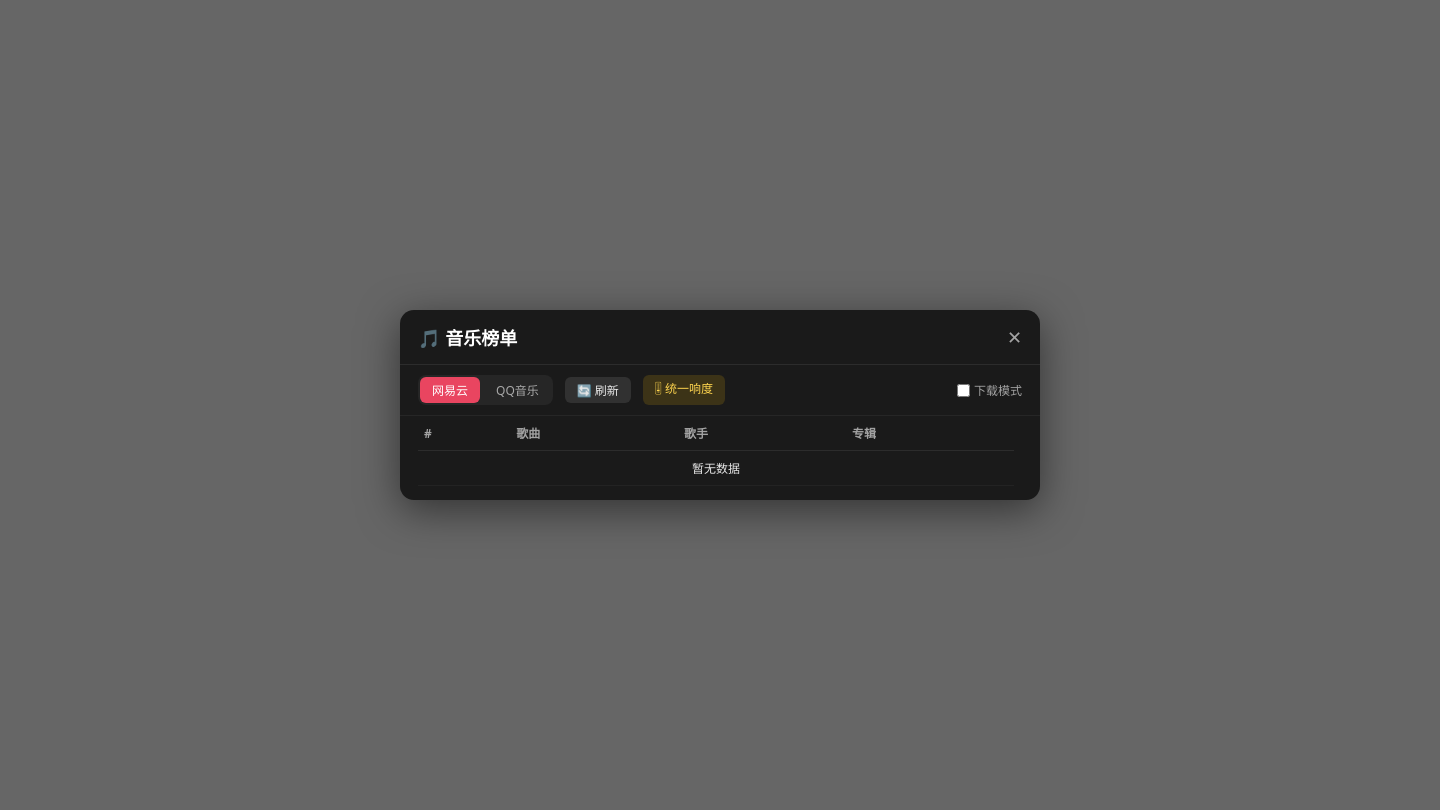
Test: Charts.vue › 点击手动下载按钮打开下载弹窗
Click the checkbox labelled "下载模式". click: [964, 390]
box: [957,384,970,396]
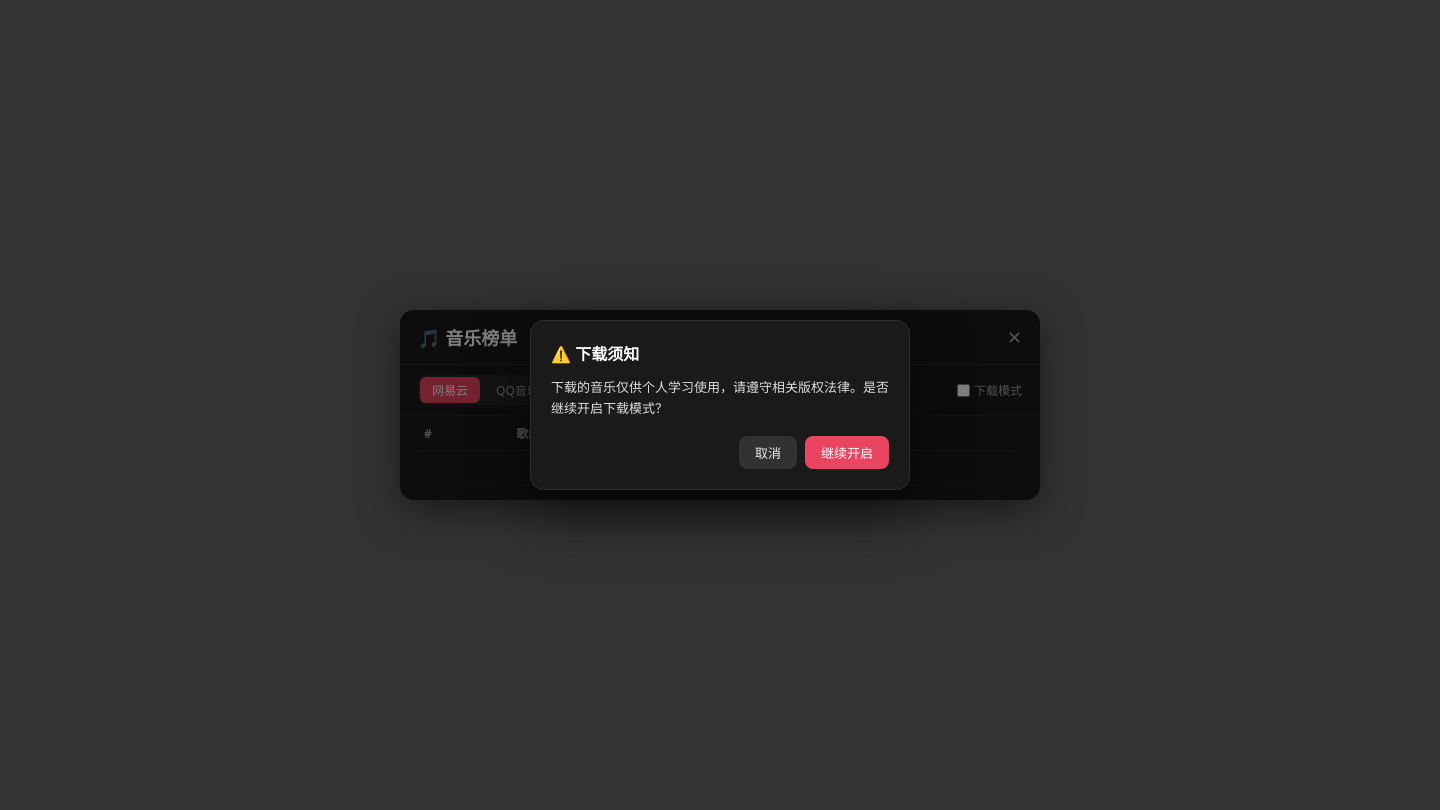
Check: the dialog with class "charts-disclaimer" is shown, box [530,320,910,490]
Click the button with class "charts-disclaimer__btn--confirm". click: [847, 453]
box: [805,436,889,469]
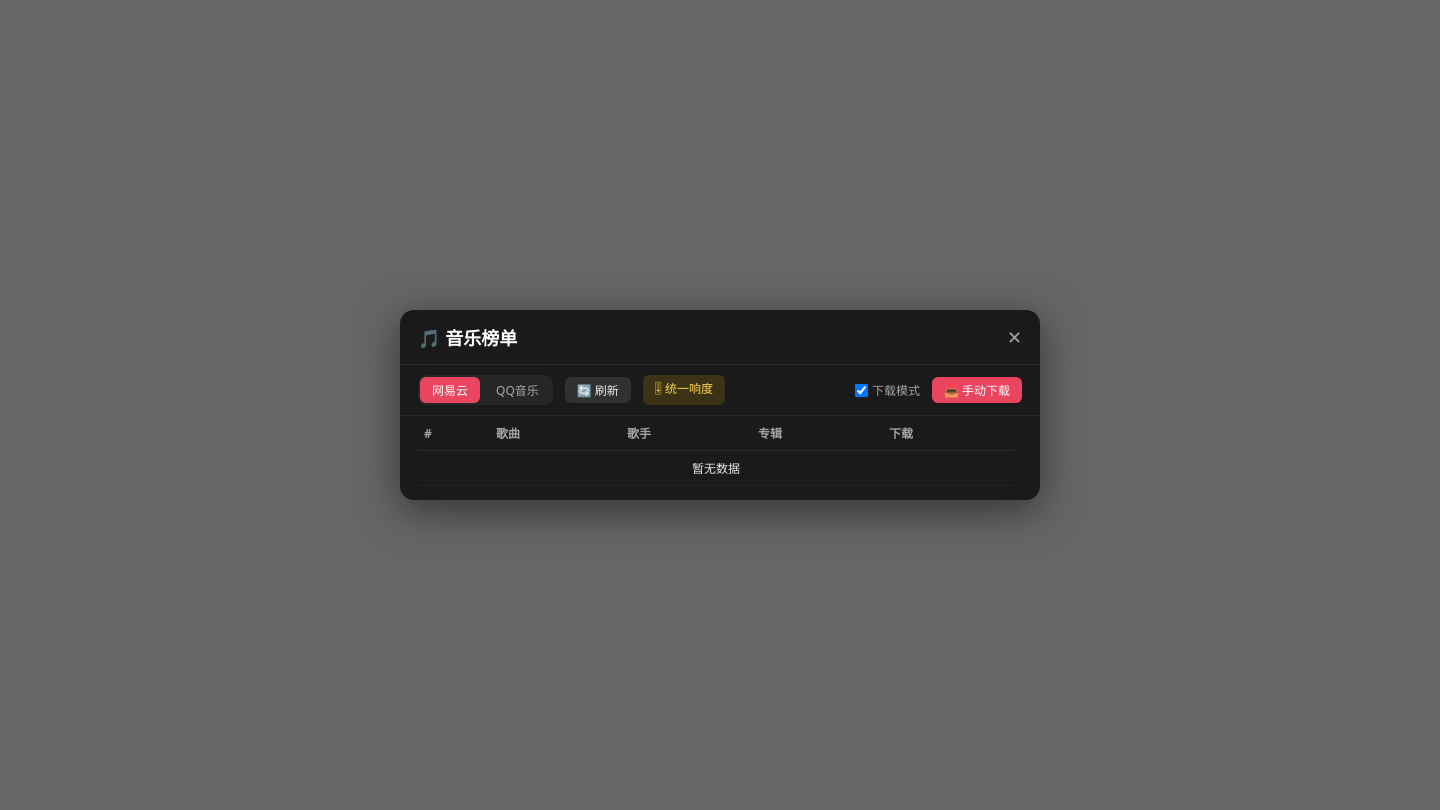
Click the button with class "charts-manual-download-btn". click: [977, 390]
box: [932,377,1022,403]
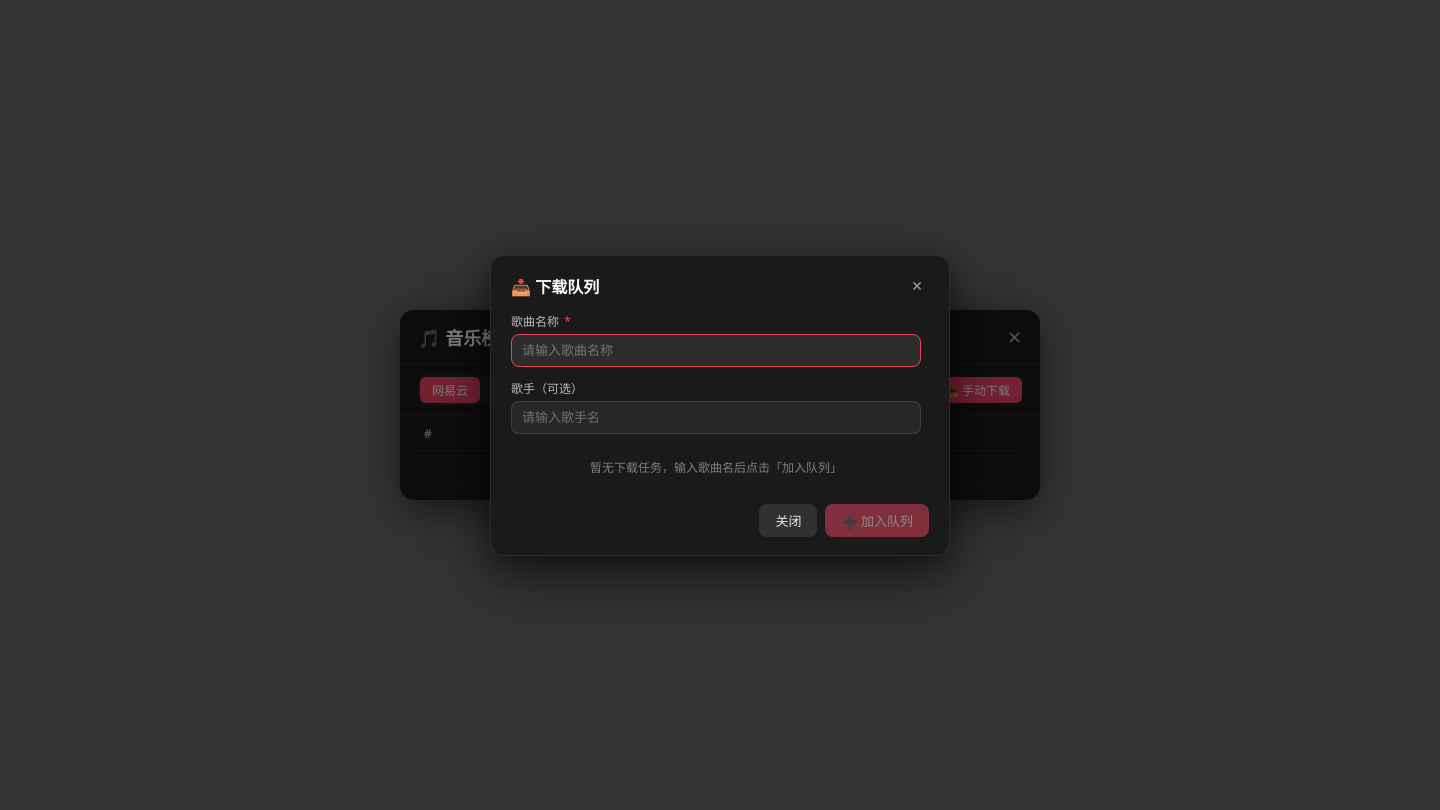
Check: the dialog with class "download-dialog" is shown, box [490,254,950,556]
Check: the heading with class "download-dialog__title" reads "📥 下载队列", box [511,276,599,298]
